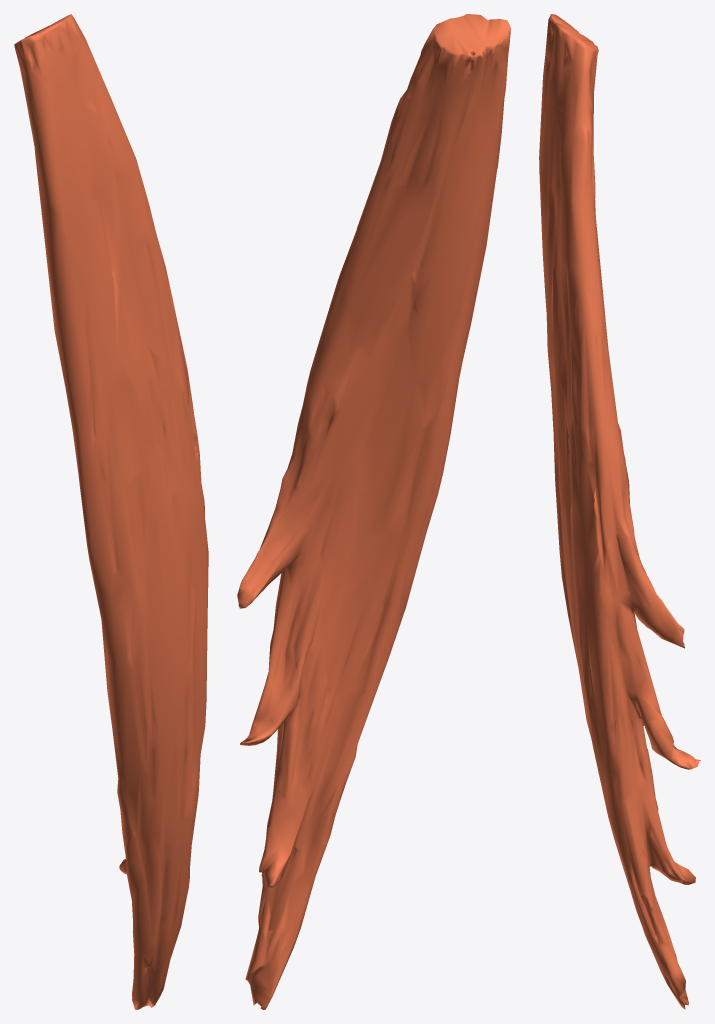
Rendered from Longus_capitis_left.glb.
3 views of the same model, side by side, from view 1: azimuth 30°, elevation 25°; view 2: azimuth 150°, elevation 25°; view 3: azimuth 270°, elevation 25° (orthographic). The views are drawn at different scales.
Visible parts, largest first — view 1: Longus_capitis_muscle.l_Generated_Mesh_From_X3D.367; view 2: Longus_capitis_muscle.l_Generated_Mesh_From_X3D.367; view 3: Longus_capitis_muscle.l_Generated_Mesh_From_X3D.367.
Boxes of the visible parts, x1,y1,x2,y2 form: Longus_capitis_muscle.l_Generated_Mesh_From_X3D.367: (14,14,208,1009); Longus_capitis_muscle.l_Generated_Mesh_From_X3D.367: (237,14,510,1009); Longus_capitis_muscle.l_Generated_Mesh_From_X3D.367: (539,14,700,1009).
Size of the model in its own units: 0.0243 by 0.11 by 0.0176.
